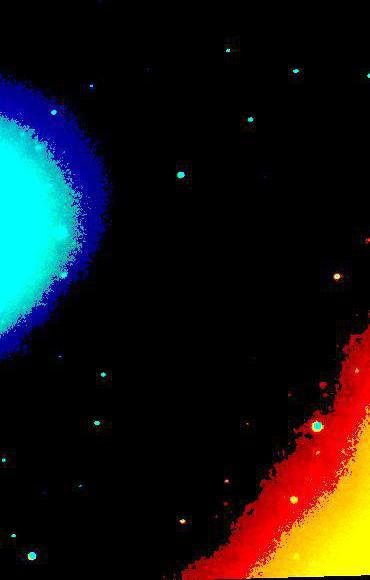star: (268, 121, 298, 151)
